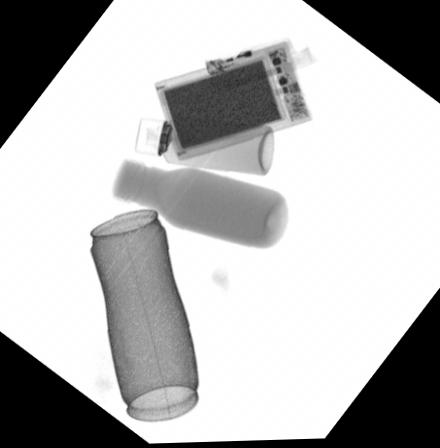Lighter: (204, 45, 272, 77)
Powerbank: (151, 41, 312, 162)
Sprayer: (134, 116, 274, 177)
